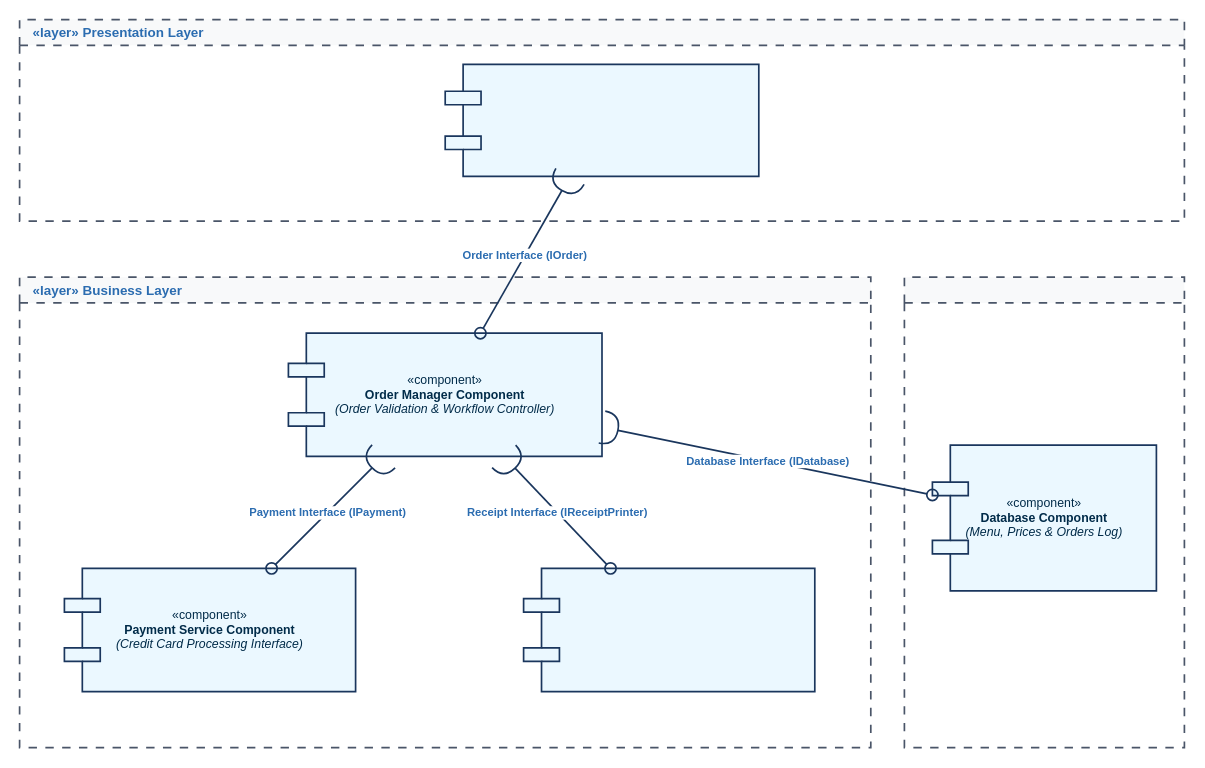
The diagram is 1205 pixels wide and 768 high, and some of its shapes have lost their labels. Here are the shapes that lost their labels. From the top down, the box of each, then its label:
(444, 63, 759, 177): «component» User Interface Component (Touchscreen Display & Menu Selection)
(903, 276, 1185, 748): «layer» Data Layer
(522, 567, 815, 692): «component» Receipt Printer Component (Hardware Printing Driver)
